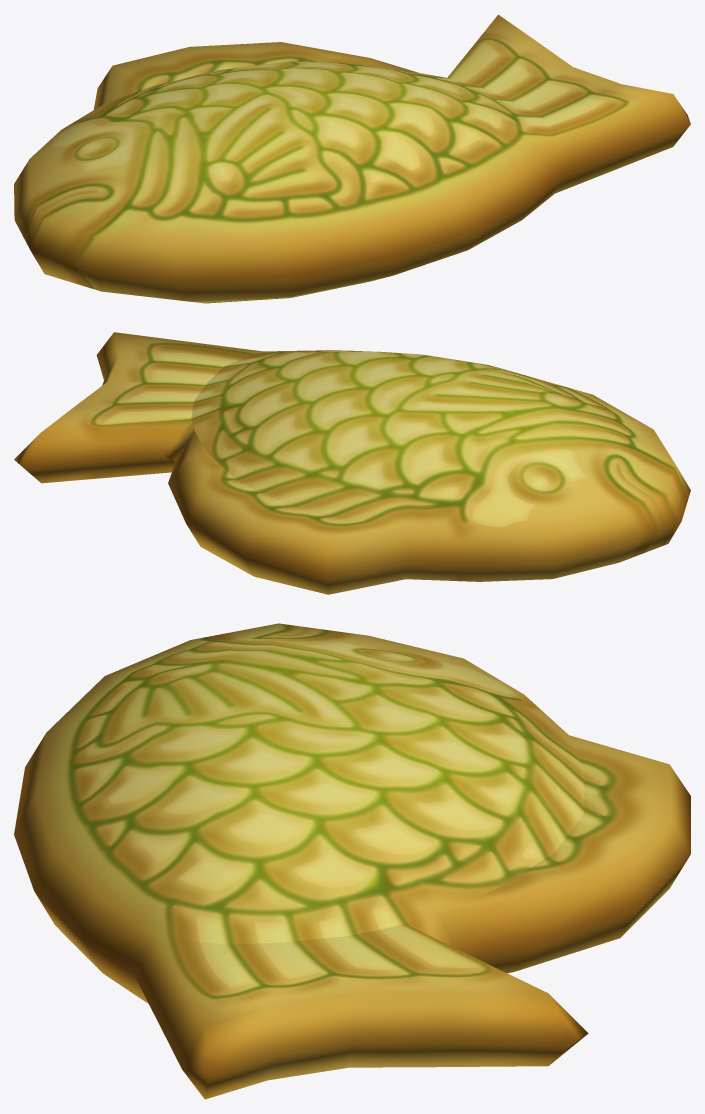
Rendered from Taiyaki_02.fbx.
The picture shows the model from 3 angles, top to bottom: view 1: azimuth 30°, elevation 25°; view 2: azimuth 150°, elevation 25°; view 3: azimuth 270°, elevation 25°; orthographic projection. The views are drawn at different scales.
Parts seen in each view (by area): view 1: Taiyaki_02; view 2: Taiyaki_02; view 3: Taiyaki_02.
Part boxes in pixels (x1,y1,x2,y2): Taiyaki_02: [14, 14, 690, 303]; Taiyaki_02: [14, 332, 690, 594]; Taiyaki_02: [14, 623, 690, 1099].
Bounding box in the file's own units: 66.02 × 13.87 × 44.6.
